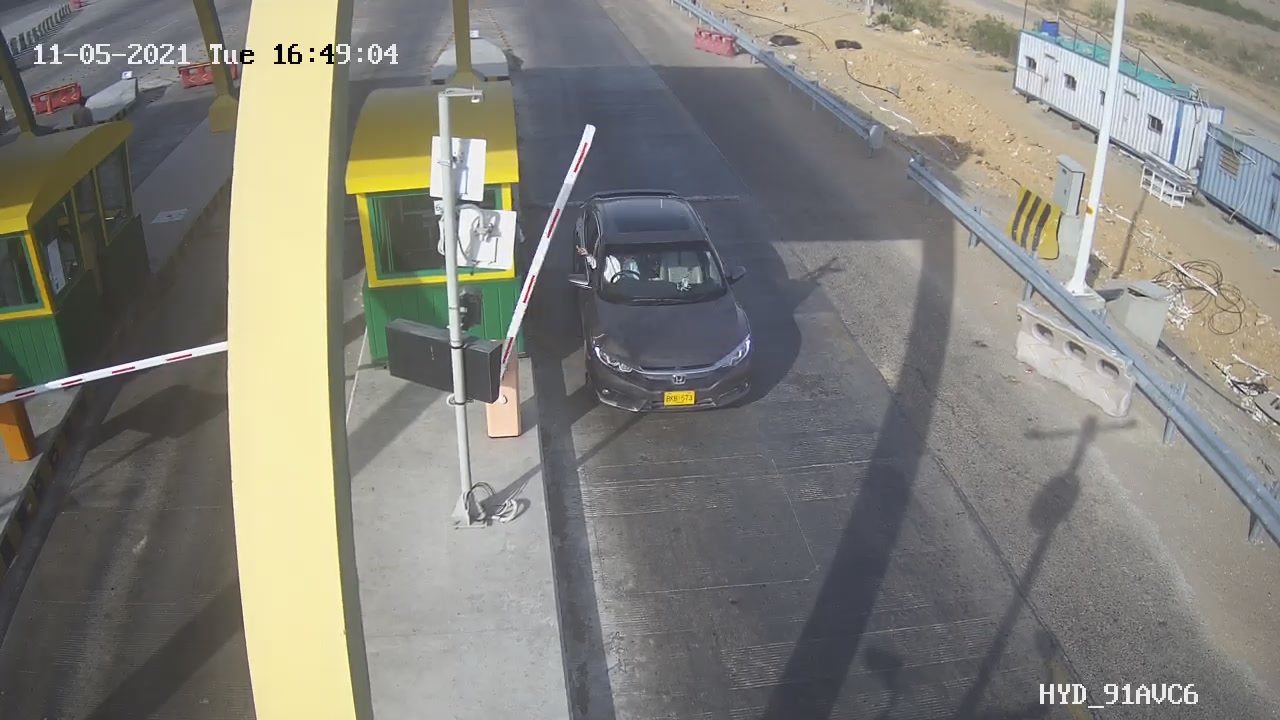F1: (555, 173, 778, 435)
